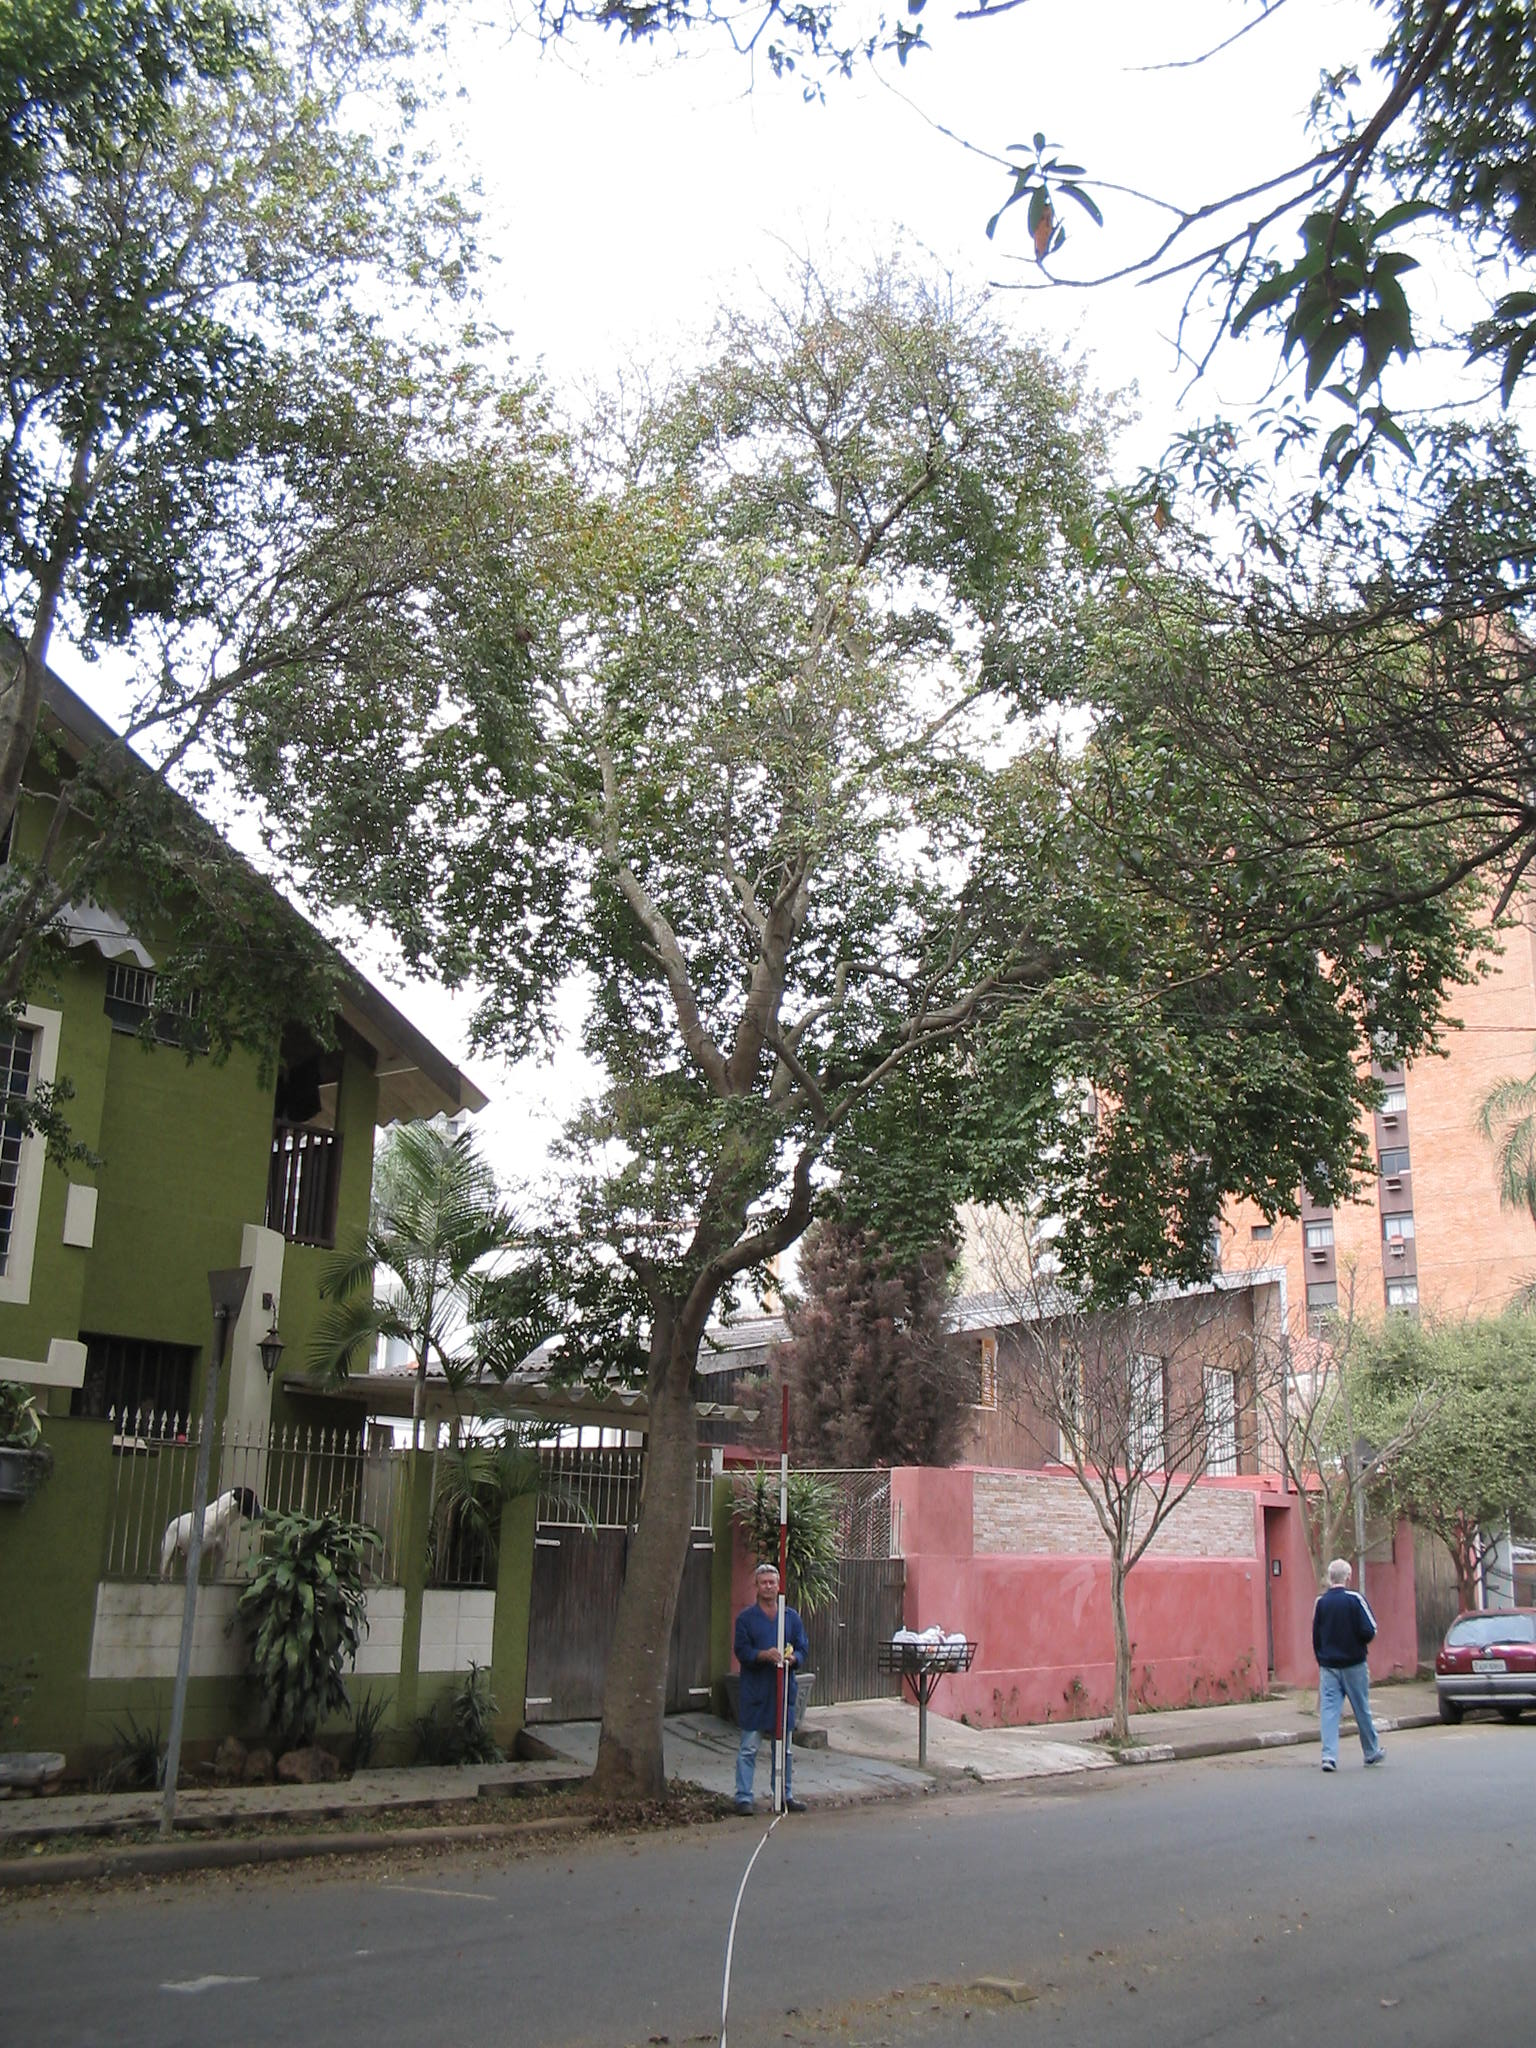stem: (570, 1345, 750, 1800)
stick: (745, 1379, 815, 1817)
tree: (365, 218, 1233, 1808), (954, 1221, 1262, 1755), (1338, 1311, 1533, 1617)
